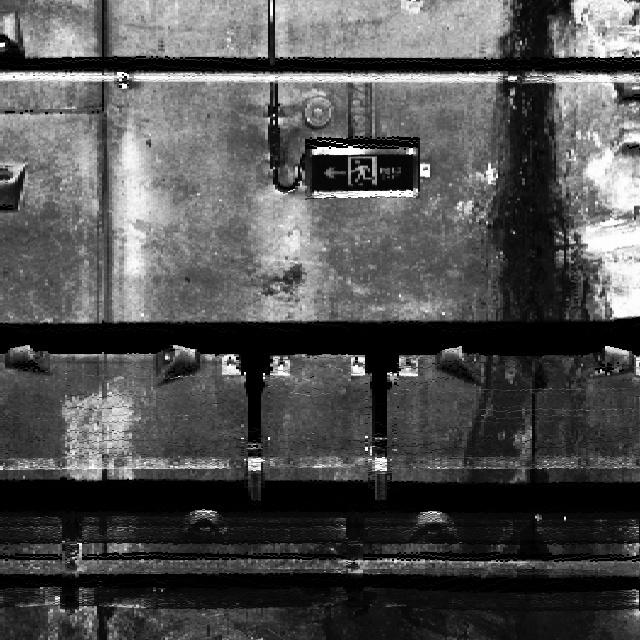leakage: (475, 0, 618, 323), (459, 350, 551, 483)
